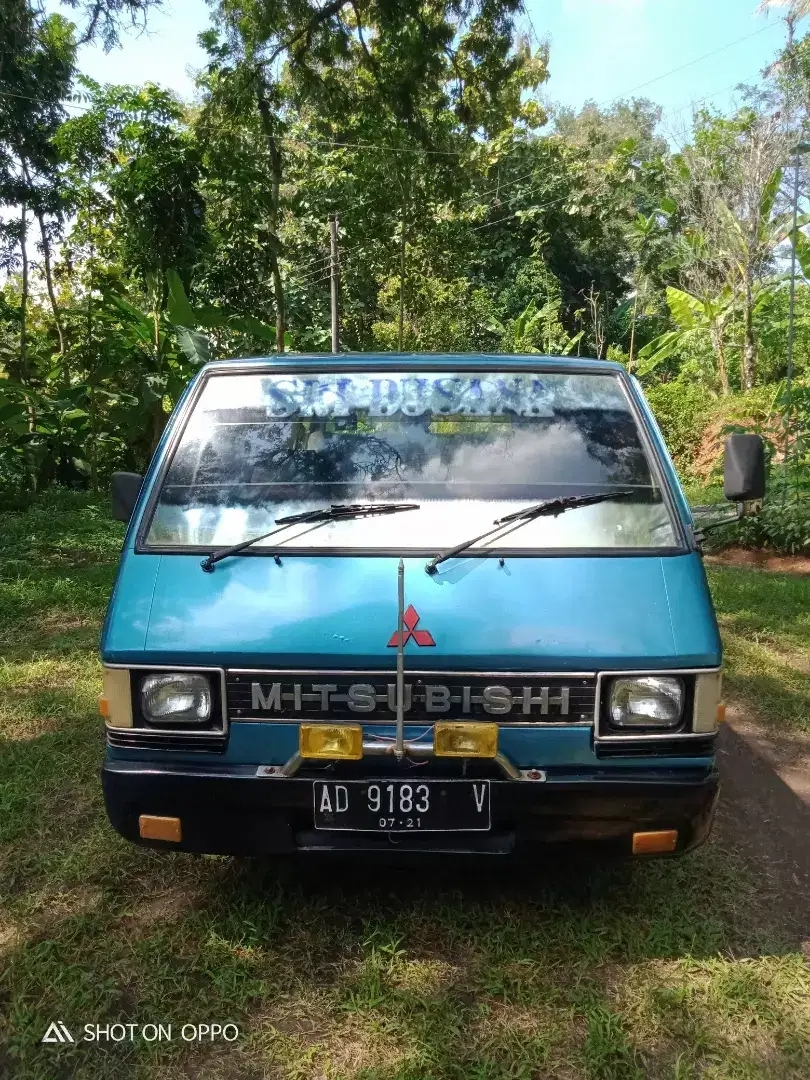plate: (314, 784, 493, 838)
